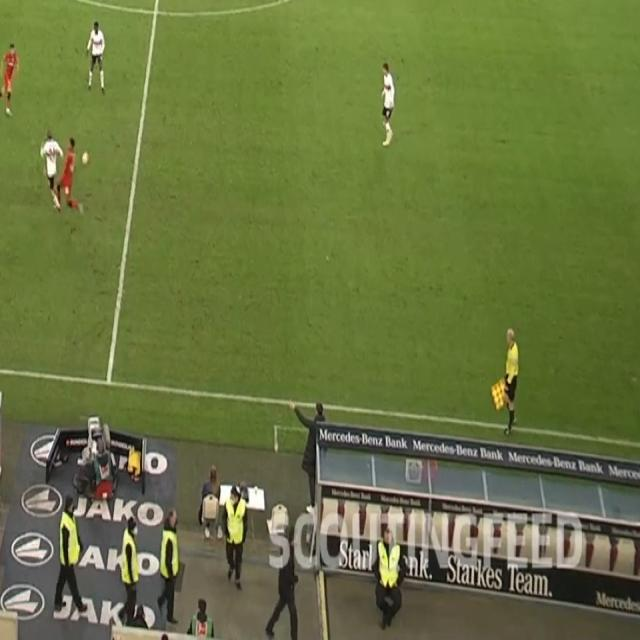ball: (81, 150, 90, 167)
